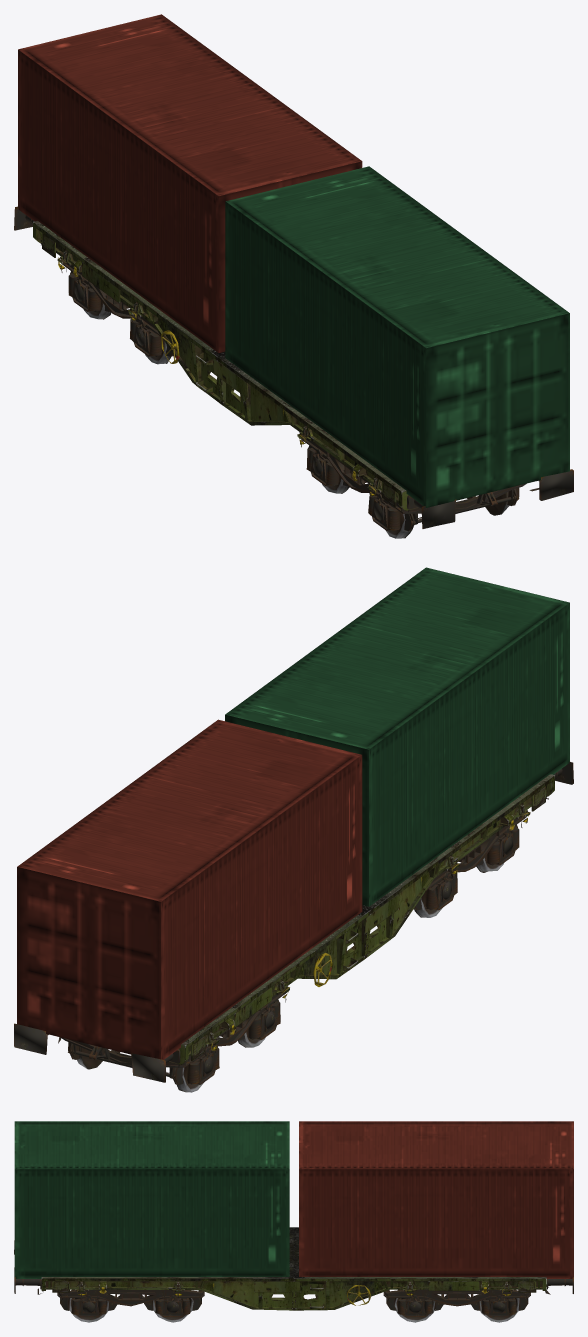
Rendered from wagonFlat20.glb.
3 views of the same model, one above another, from view 1: azimuth 30°, elevation 25°; view 2: azimuth 150°, elevation 25°; view 3: azimuth 270°, elevation 25° (orthographic). The views are drawn at different scales.
Parts seen in each view (by area): view 1: container-green, container-red, WagonLow; view 2: container-red, container-green, WagonLow; view 3: container-green, container-red, WagonLow.
Part boxes in pixels (x1,y1,x2,y2): container-green: [225, 166, 569, 507]; container-red: [18, 14, 362, 352]; WagonLow: [14, 206, 573, 538]; container-red: [17, 719, 362, 1059]; container-green: [225, 567, 569, 906]; WagonLow: [14, 761, 573, 1092]; container-green: [14, 1121, 289, 1278]; container-red: [299, 1121, 573, 1278]; WagonLow: [14, 1227, 573, 1322].
Size of the model in its own units: 2.7 by 3.8 by 12.02.
Materials: 3 (3 with a texture image).
